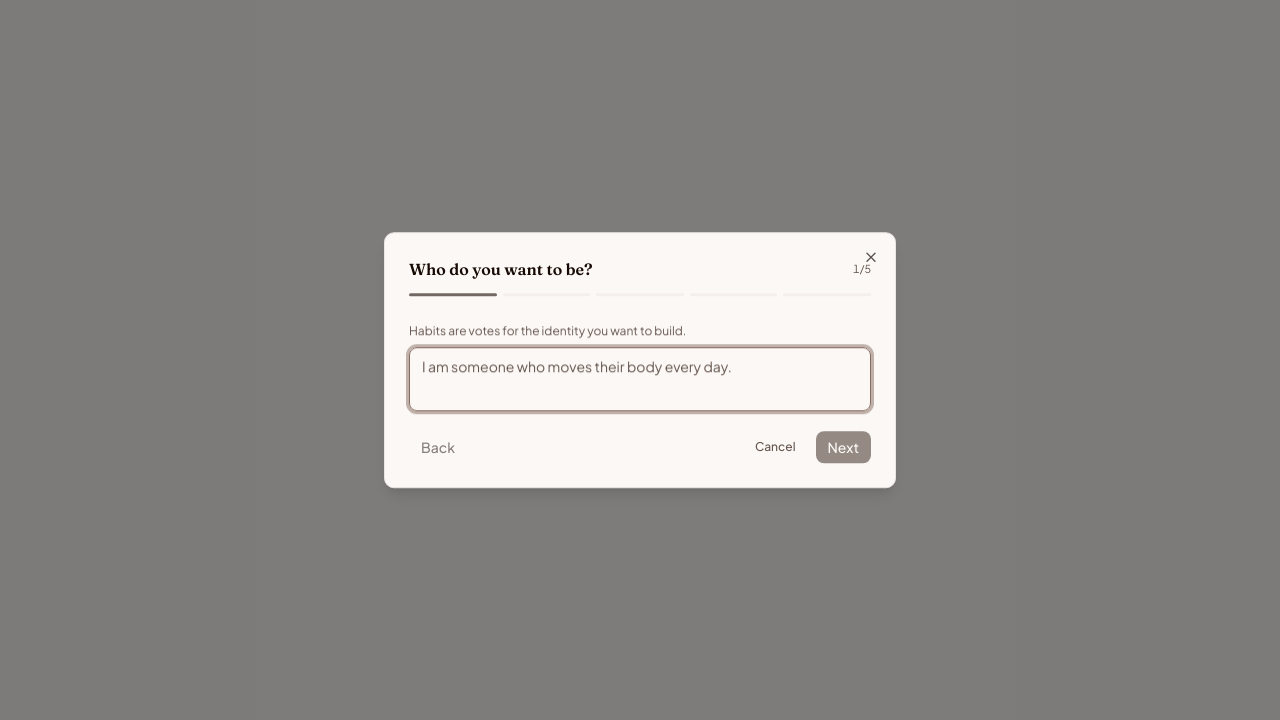
Scenario: HabitForm walkthrough — state machine › Back on step 2 returns to step 1
In the text box: point(640, 379) [409,347,871,411], type "I am someone who moves every day"
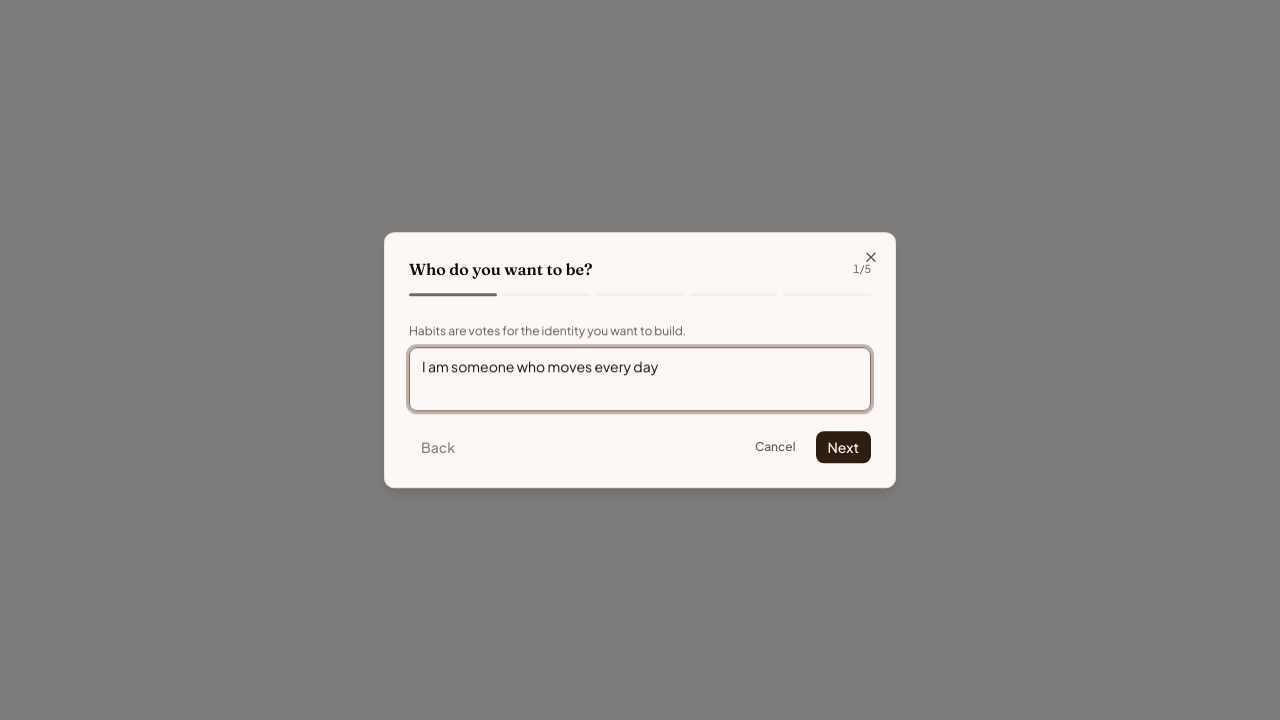
Click the button "Next": point(843, 447) [816,431,871,463]
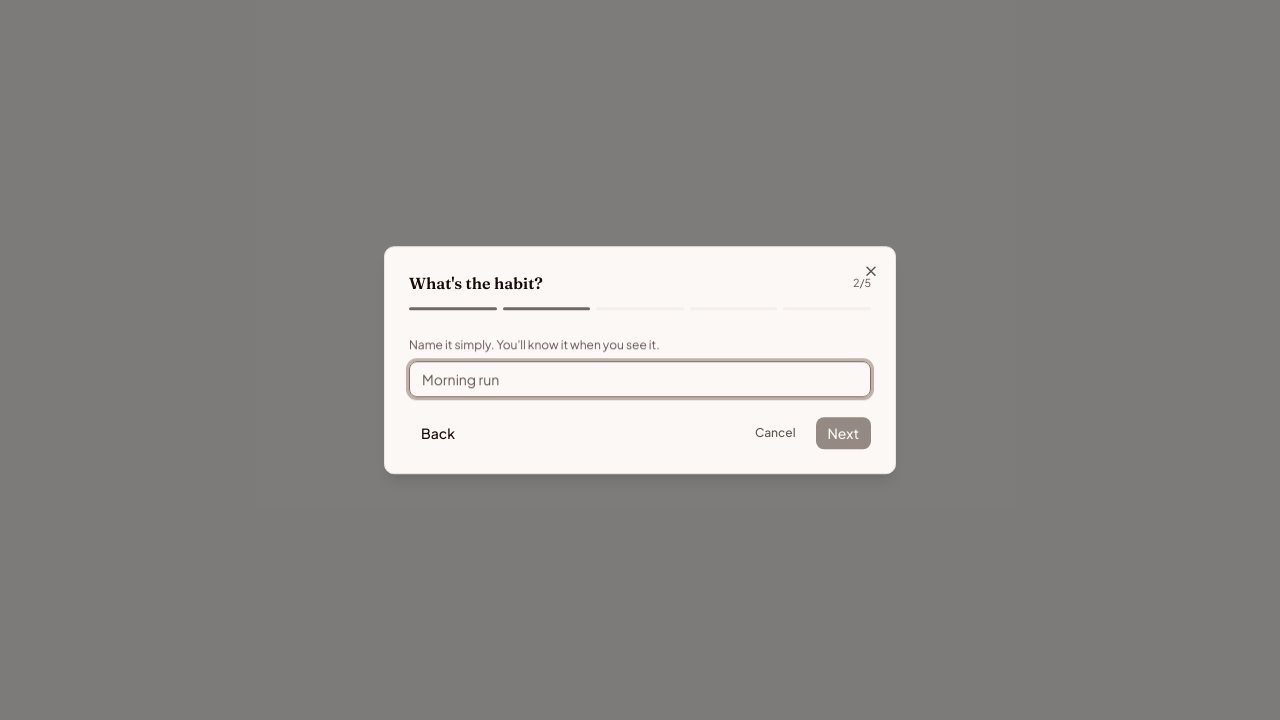
Click the button "Back": point(438, 433) [409,417,467,449]
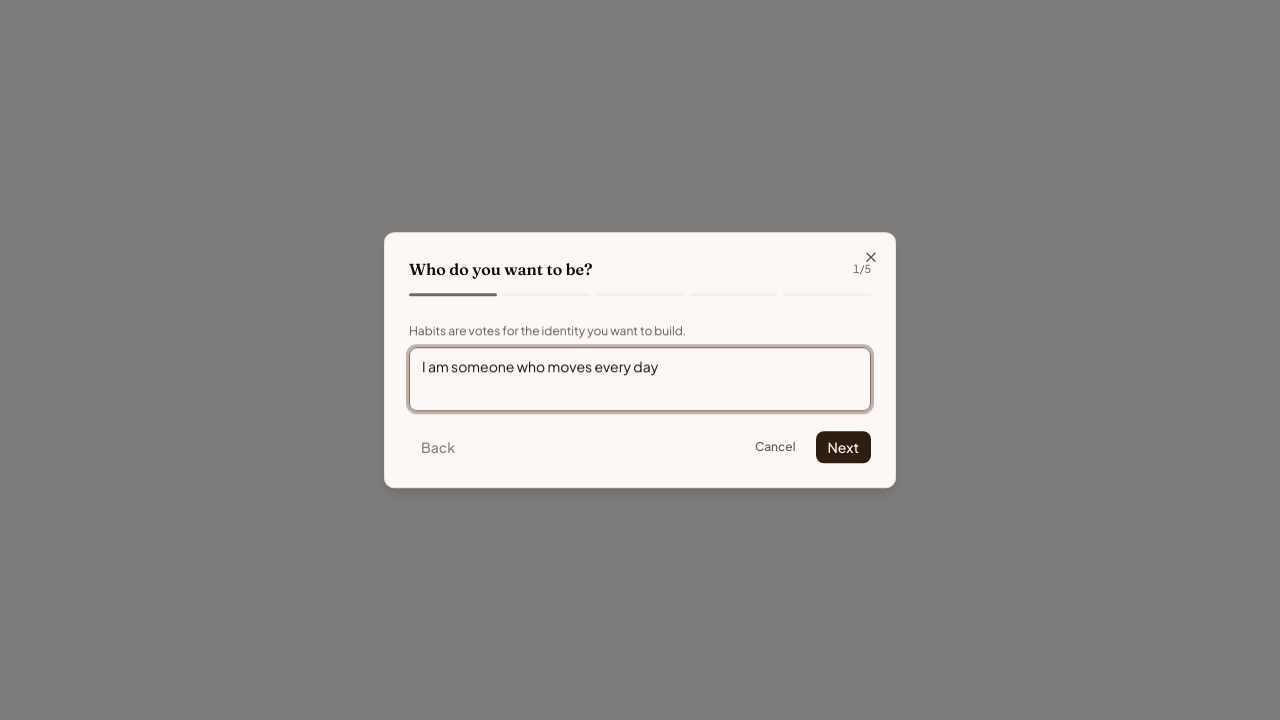
Expected: the heading "Who do you want to be?" is shown, [409,257,592,281]
